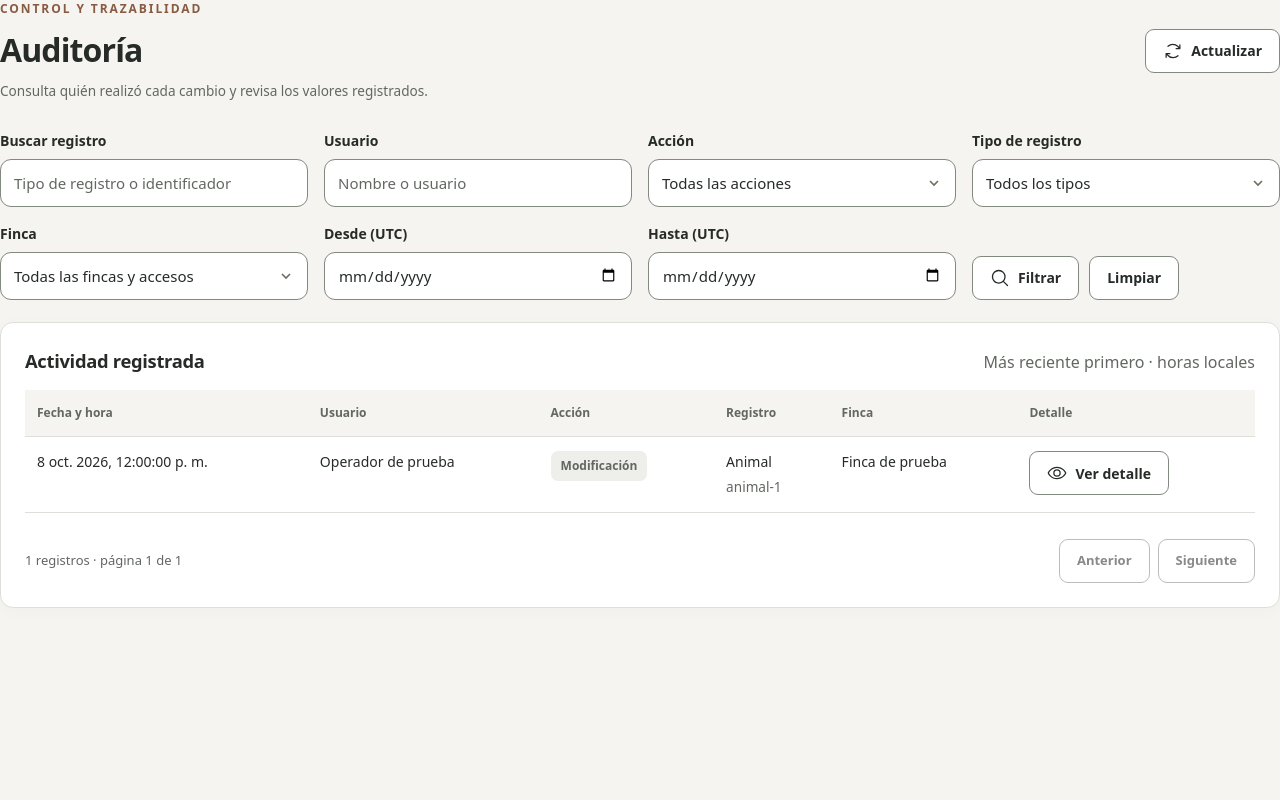
Test: keeps credential-free access events meaningful without fabricating changed values
Click the button with aria-label "Ver evento de Animal" at (1099, 473), box [1029,451,1169,495]
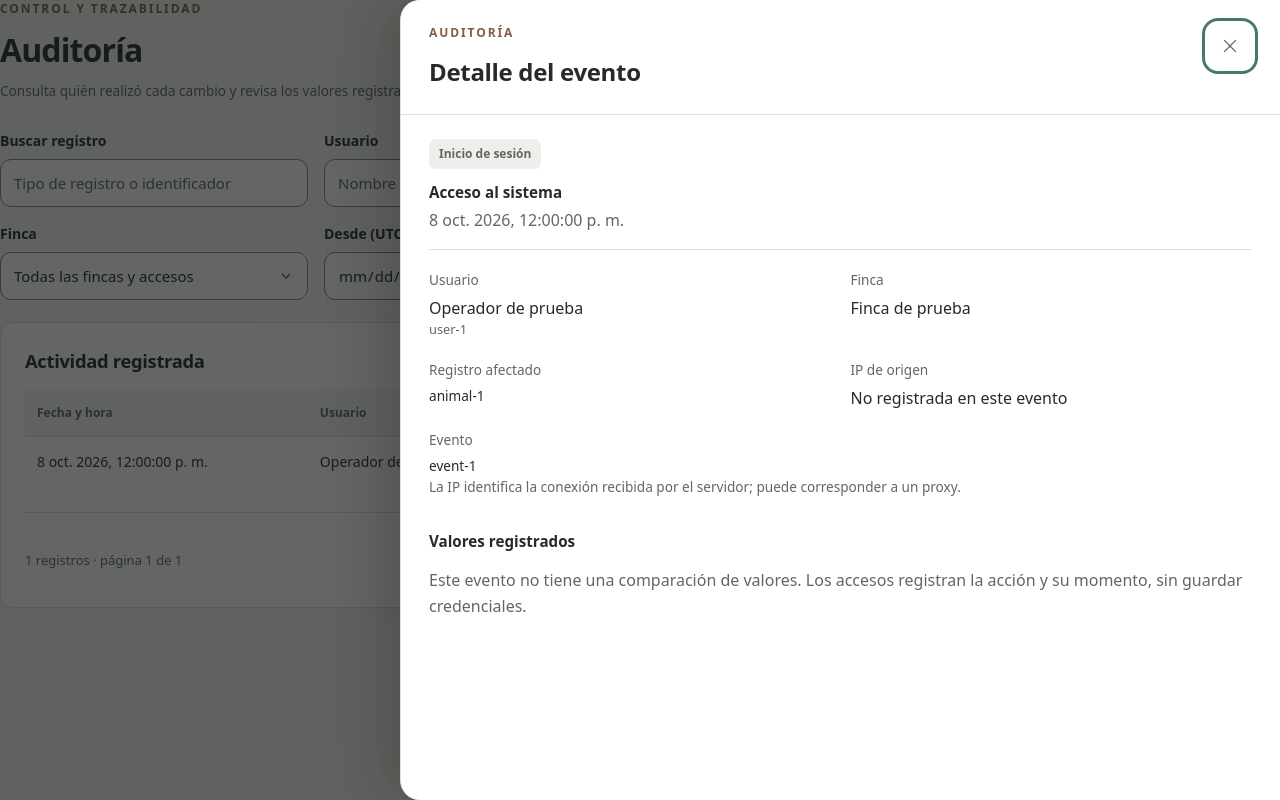
Now the text "sin guardar credenciales" is shown, box [429,570,1242,617]
Now the text "No registrada en este evento" is shown, box [850,386,1067,408]
